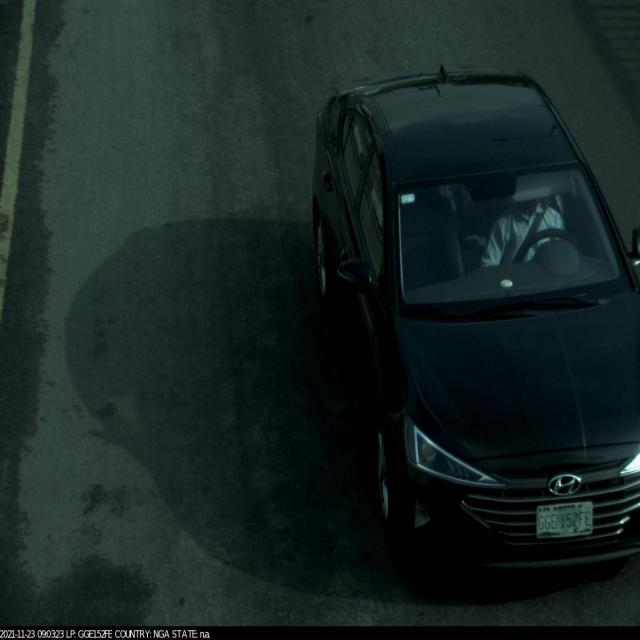windshield: (378, 151, 636, 337)
